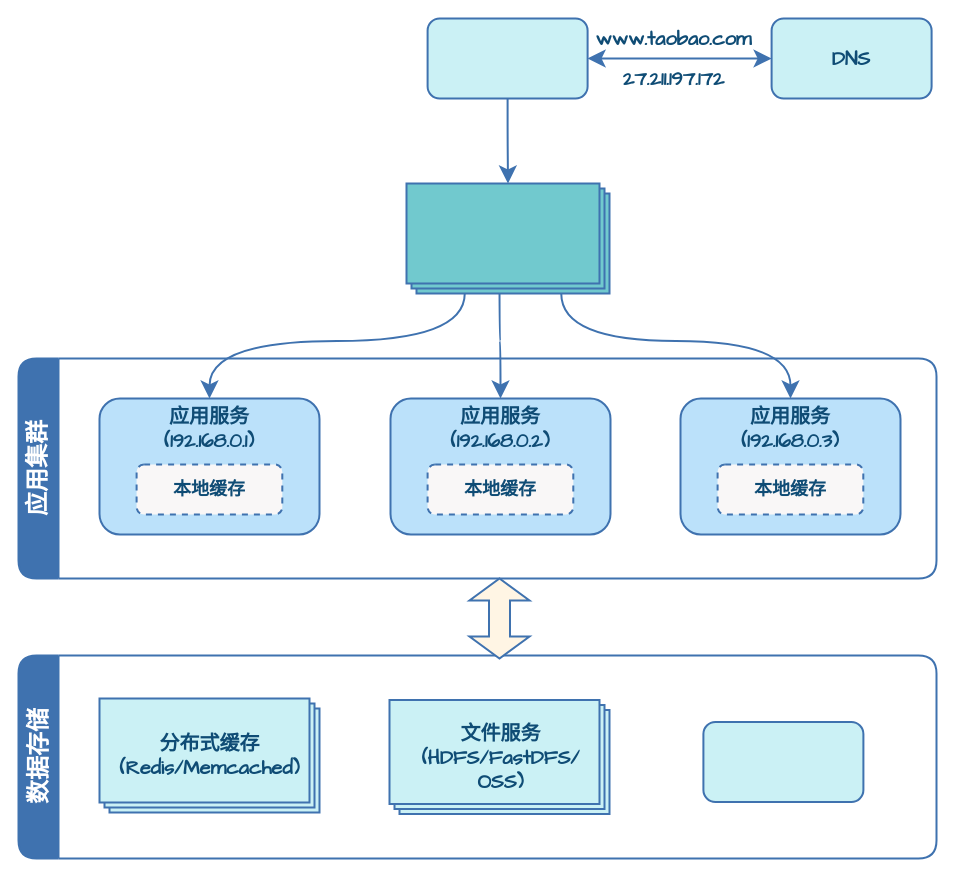
Some shapes in this 954 by 876 pixel diagram are drawn without their labels. Each missing label, with the centre of its shape:
"客户端" goes at [507,58].
"数据库" goes at [783,761].
"负载均衡 (Nginx/Apache)" goes at [507,238].
